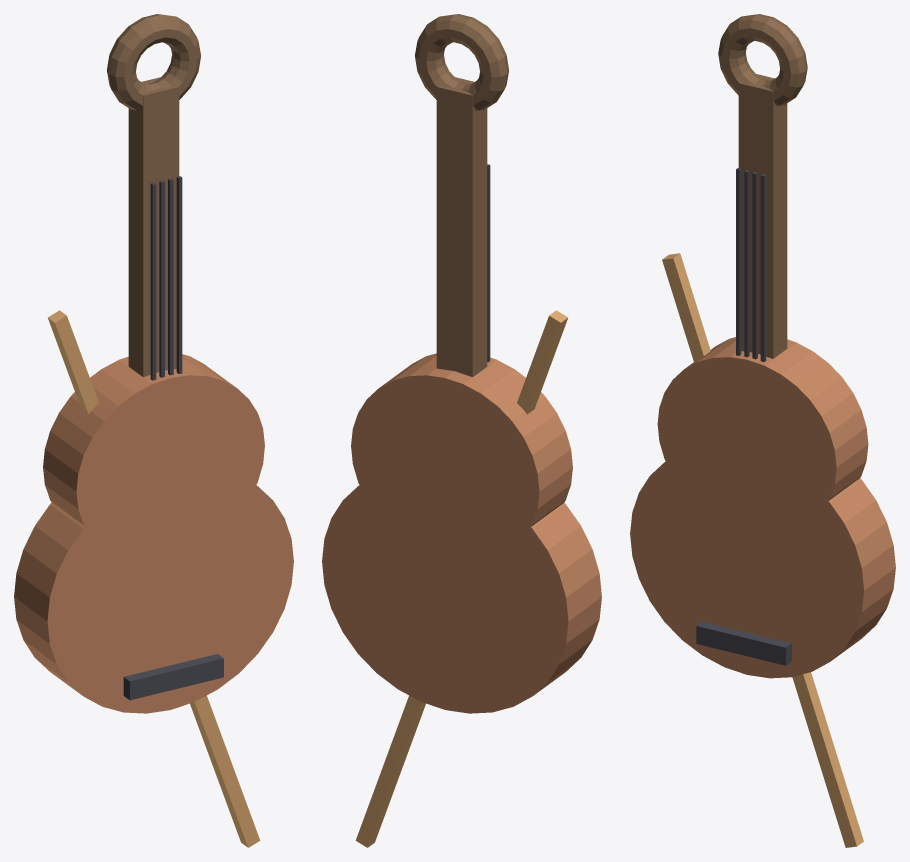
The model's file is violin.glb.
3 renders of one model, left to right at view 1: azimuth 30°, elevation 25°; view 2: azimuth 150°, elevation 25°; view 3: azimuth 330°, elevation 25°, orthographic. The views are drawn at different scales.
Size of the model in its own units: 0.68 by 2.24 by 0.19.
